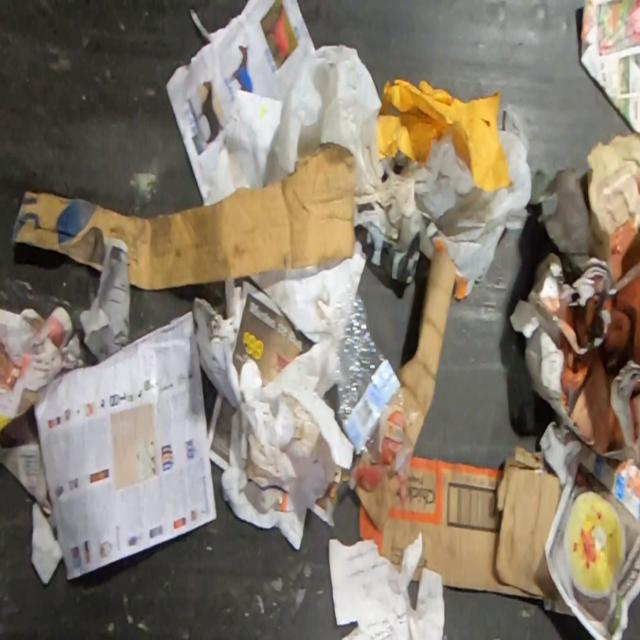cardboard: (10, 143, 356, 290), (358, 441, 562, 602), (345, 245, 458, 531), (585, 132, 640, 263)
rigid_plastic: (328, 287, 406, 465)
soft_plastic: (264, 44, 534, 281)
